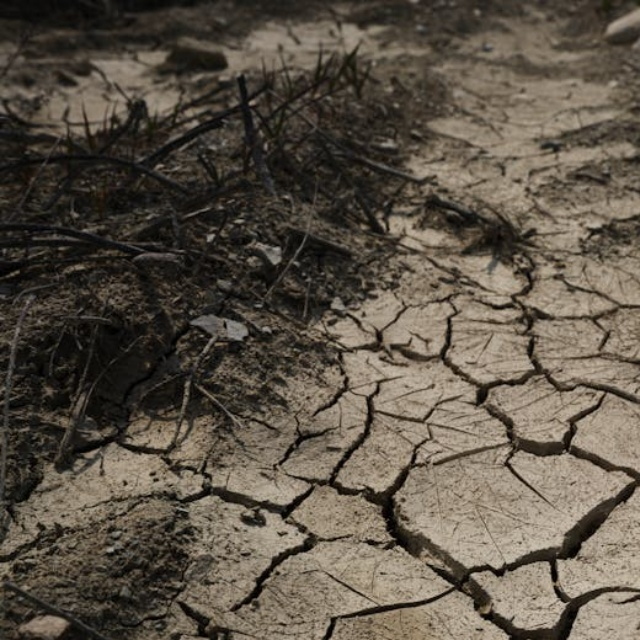网状裂隙: (171, 289, 640, 640)
